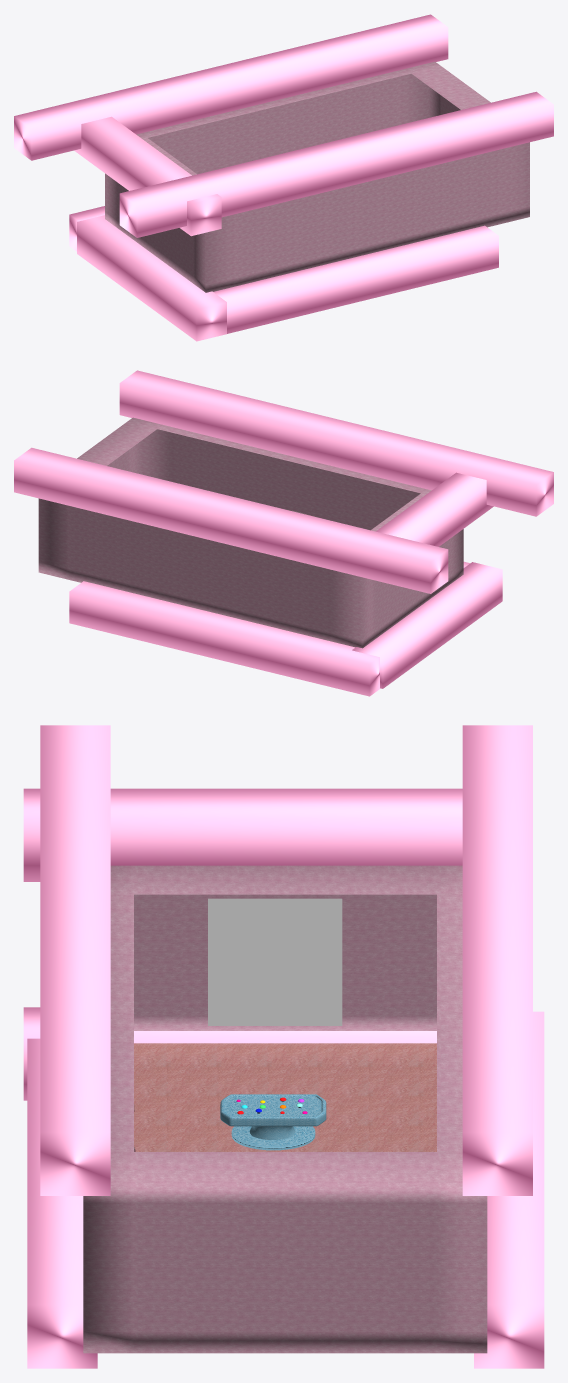
File: temp_krik1.glb
3 renders of one model, top to bottom at view 1: azimuth 30°, elevation 25°; view 2: azimuth 150°, elevation 25°; view 3: azimuth 270°, elevation 25°, orthographic. The views are drawn at different scales.
Parts seen in each view (by area): view 1: Cube.020, Cube.005, Cube.007, Cube.004, Cube.002, Cube.003, Cube.006; view 2: Cube.020, Cube.007, Cube.005, Cube.006, Cube.002, Cube.003; view 3: Cube.020, Cube.005, Cube.007, Cube.003, Erkan, Cube.006, Cube.004, Cube.002, Cylinder, Plane.
Boxes of the visible parts, x1,y1,x2,y2 form: Cube.020: [105, 61, 529, 292]; Cube.005: [119, 91, 553, 237]; Cube.007: [14, 14, 448, 160]; Cube.004: [213, 225, 498, 333]; Cube.002: [77, 215, 226, 341]; Cube.003: [74, 116, 221, 236]; Cube.006: [69, 206, 104, 251]; Cube.020: [38, 417, 463, 648]; Cube.007: [14, 447, 448, 593]; Cube.005: [119, 370, 553, 516]; Cube.006: [69, 581, 380, 696]; Cube.002: [352, 562, 502, 688]; Cube.003: [376, 472, 493, 546]; Cube.020: [83, 865, 487, 1353]; Cube.005: [40, 725, 110, 1195]; Cube.007: [462, 725, 532, 1195]; Cube.003: [23, 788, 462, 881]; Erkan: [208, 898, 342, 1025]; Cube.006: [474, 1011, 544, 1368]; Cube.004: [27, 1038, 97, 1368]; Cube.002: [23, 1007, 436, 1100]; Cylinder: [220, 1094, 326, 1150]; Plane: [226, 1097, 320, 1116].
Bounding box in the file's own units: 27.39 × 9.2 × 14.81.
24 materials, 7 textured.
